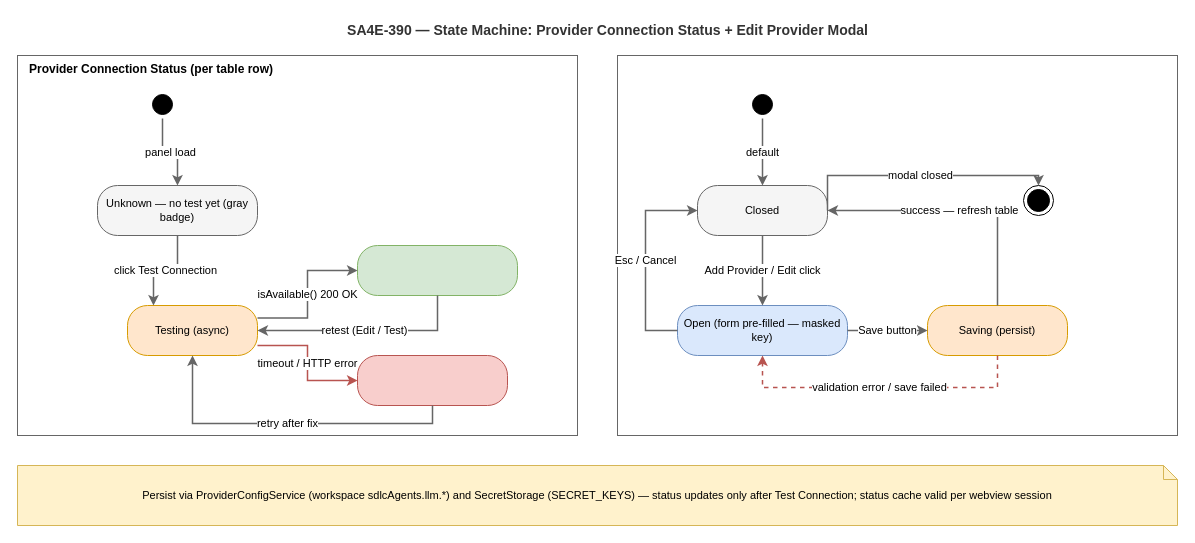
The diagram is 1195 pixels wide and 543 high, and some of its shapes have lost their labels. Each missing label, with the box of its shape:
Connected (green badge): (356, 244, 518, 296)
Edit Provider Modal (Settings Panel): (616, 54, 1178, 436)
Failed (red badge): (356, 354, 508, 406)
